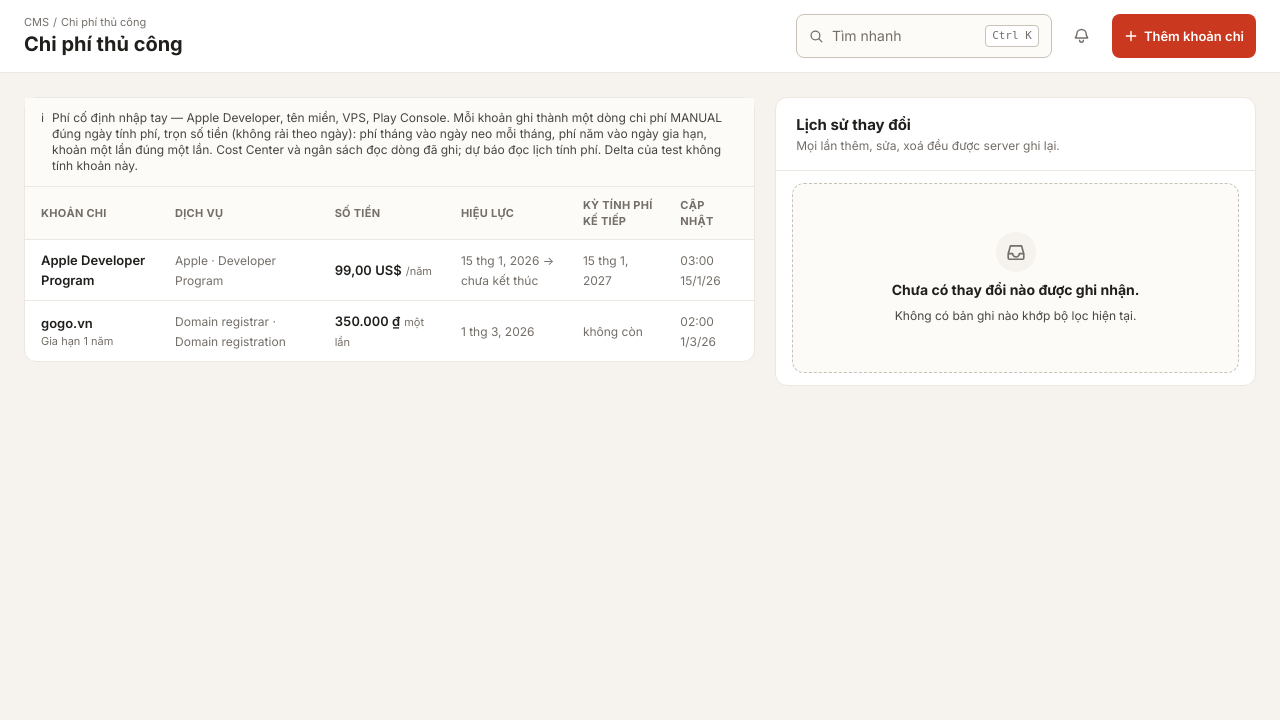
Test case: manual costs (COST-CMS-010) › creates an item from the registry service list and sends an Idempotency-Key
Click the button "Thêm khoản chi" at (1184,36), box [1112,14,1256,58]
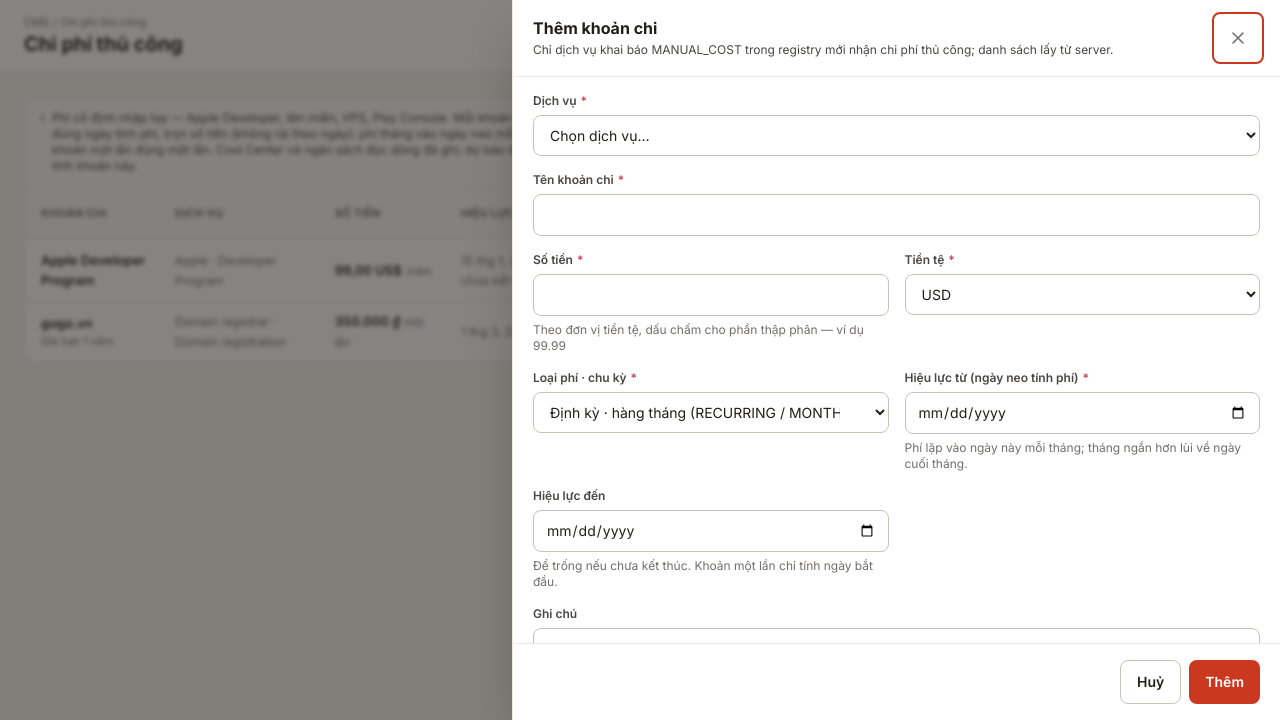
Select "Hosting · VPS subscription" in the dropdown labelled "Dịch vụ*" at (896,136), box [533,115,1260,156]
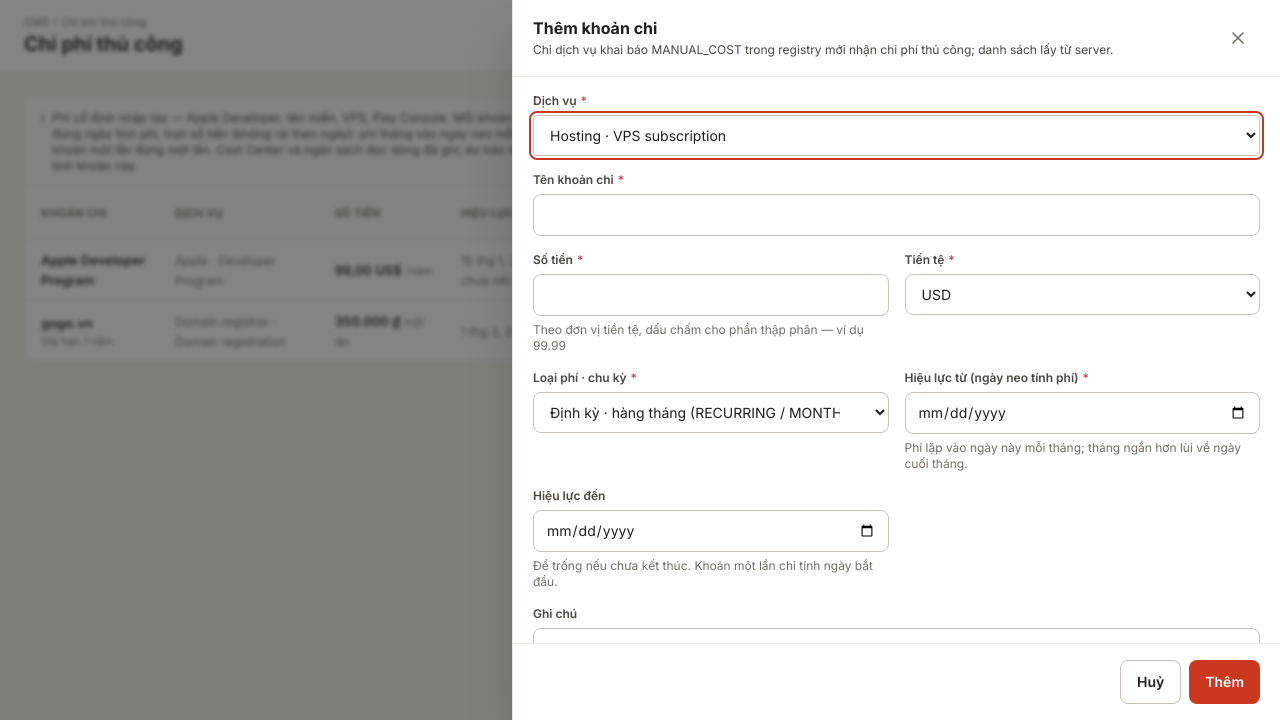
Type "VPS Hetzner" into the field labelled "Tên khoản chi*" at (896,215), box [533,194,1260,236]
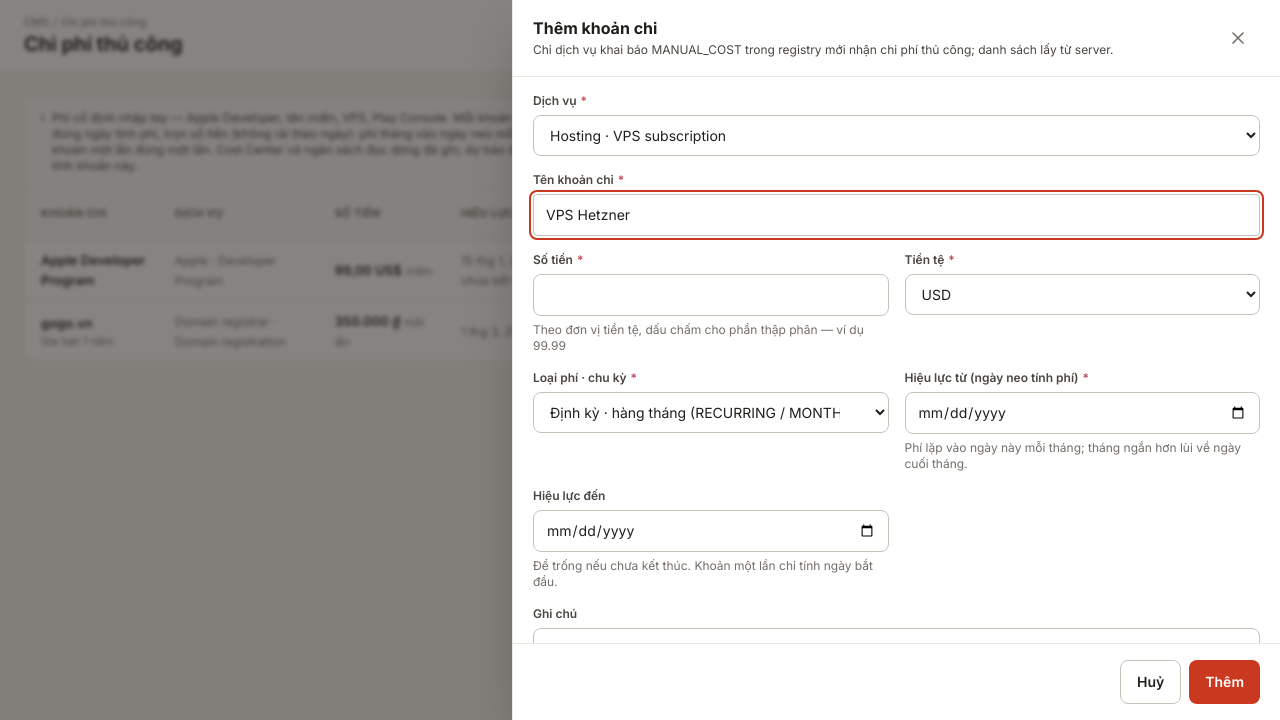
Type "12.5" into the field labelled "Số tiền*" at (711,295), box [533,274,888,316]
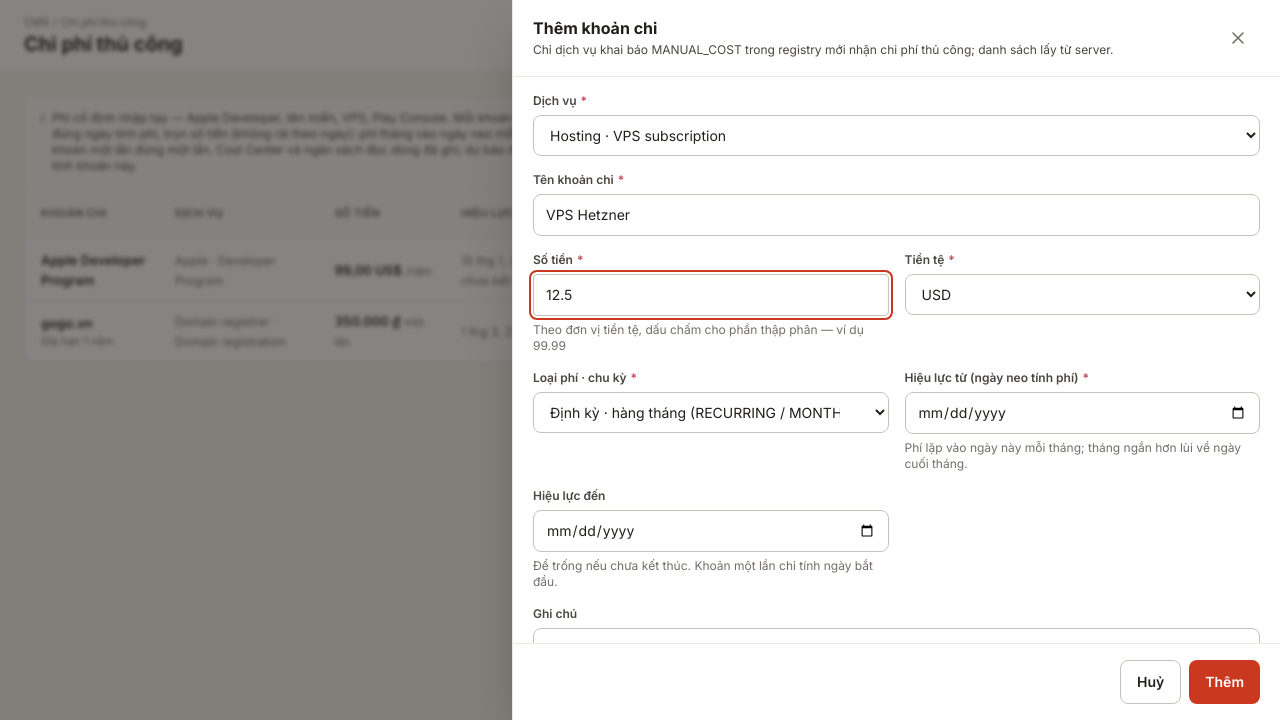
Type "2026-09-01" into the date field labelled "Hiệu lực từ (ngày neo tính phí)*" at (1082,413), box [904,392,1260,434]
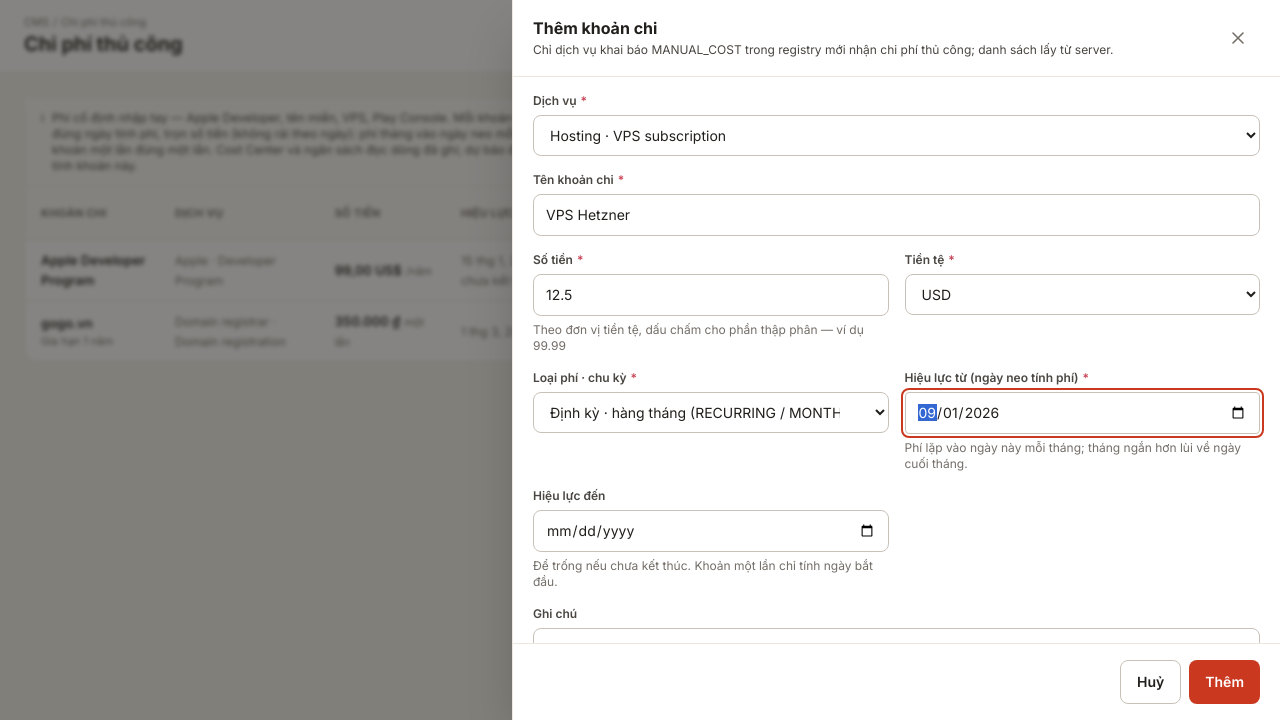
Click the button "Thêm" at (1225,682), box [1189,660,1260,704]
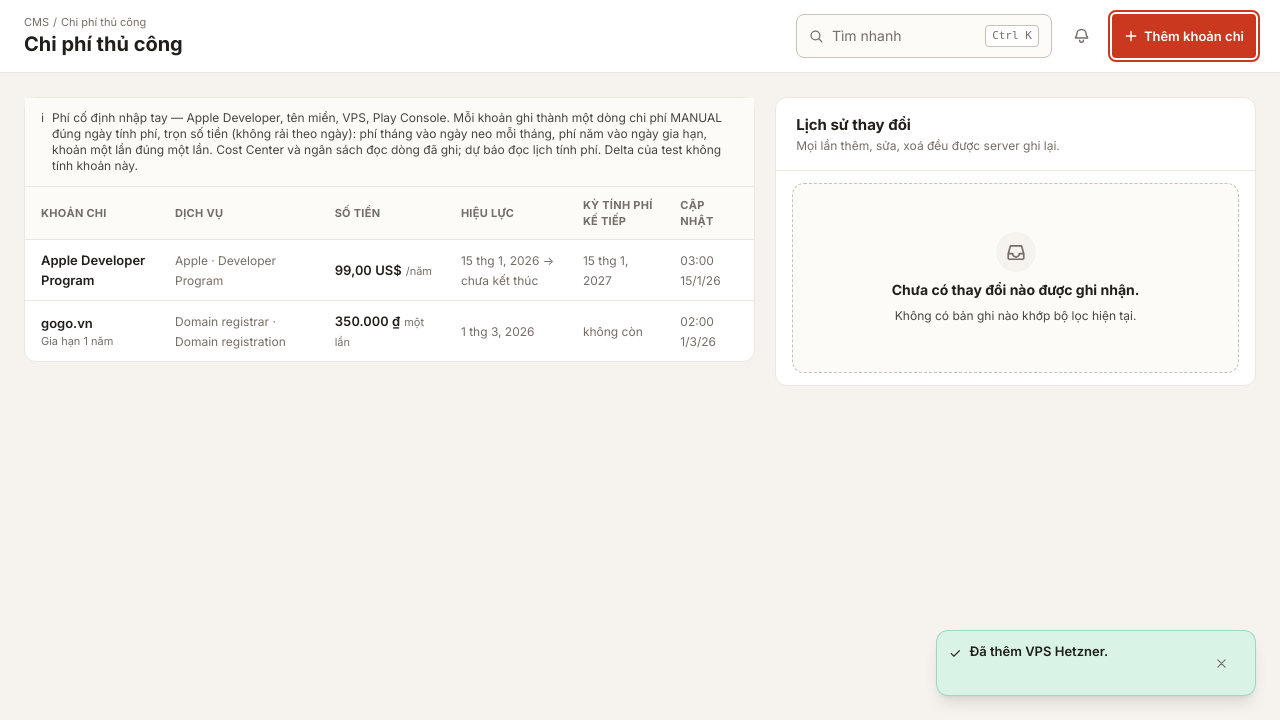
Now the text "Đã thêm VPS Hetzner." is shown, box [969,643,1108,659]
